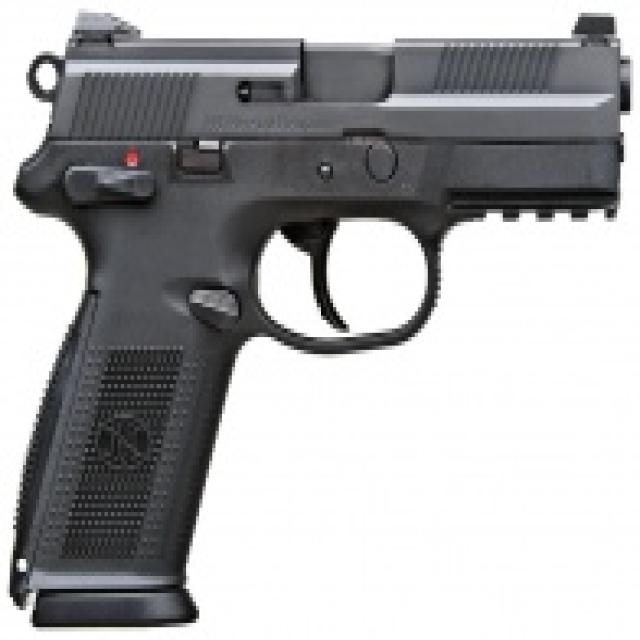pistol: (1, 1, 640, 637)
